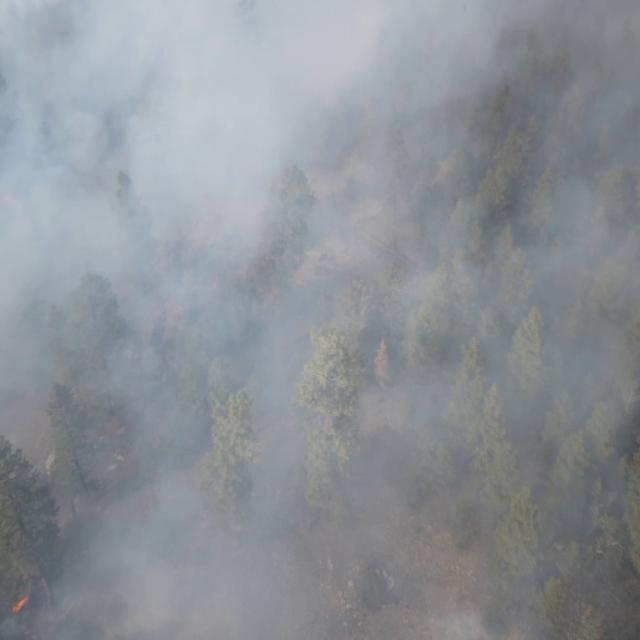fire: (8, 590, 32, 614)
smoke: (0, 0, 640, 640)
